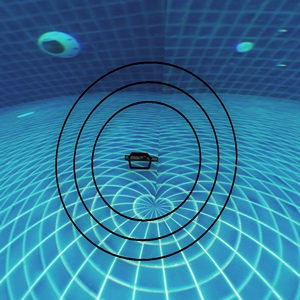circle: (45, 55, 240, 276)
